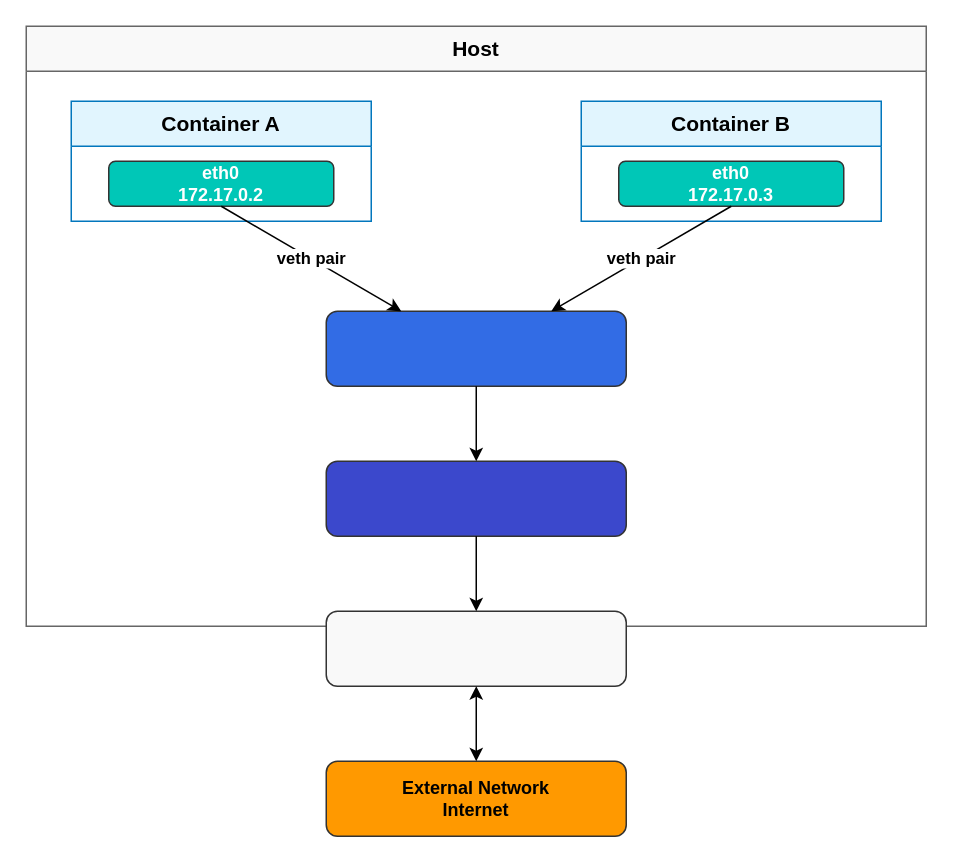
This 953x863 diagram has some shape labels left out. Here are the shapes that lost their labels. From the top down, the centre of each, then its label:
At [475,348]: "Bridge (docker0) 172.17.0.1/16".
At [475,498]: "iptables NAT Rules".
At [475,648]: "eth0 192.168.1.10".
